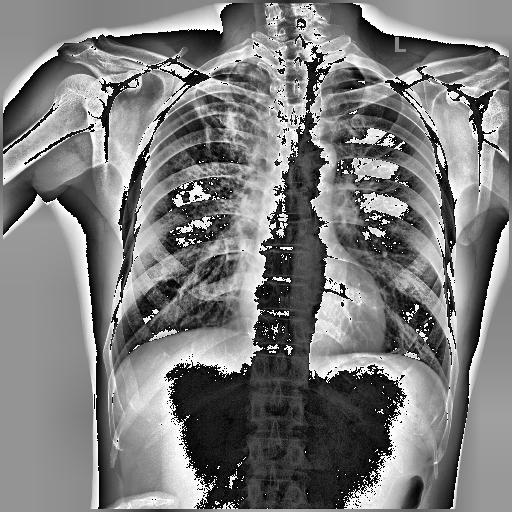13- Pulmonary fibrosis: (174, 66, 275, 236), (184, 64, 277, 196), (193, 52, 266, 186)
6- Infiltration: (174, 66, 275, 236), (184, 64, 277, 196), (193, 52, 266, 186)
